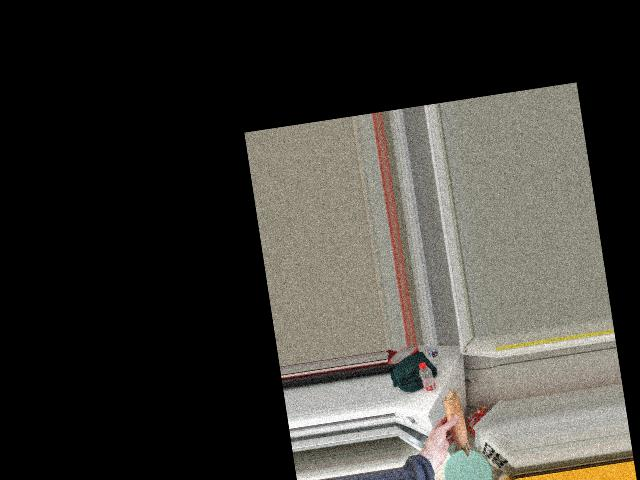sweet_potato: (439, 388, 470, 458)
